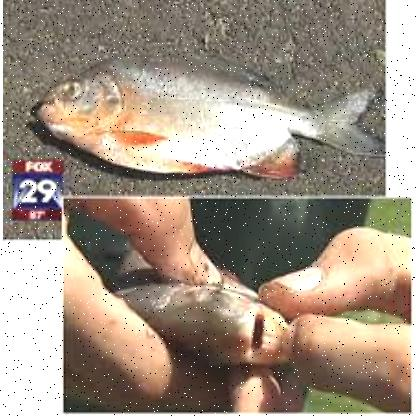ikan-pacu: (36, 45, 372, 180)
